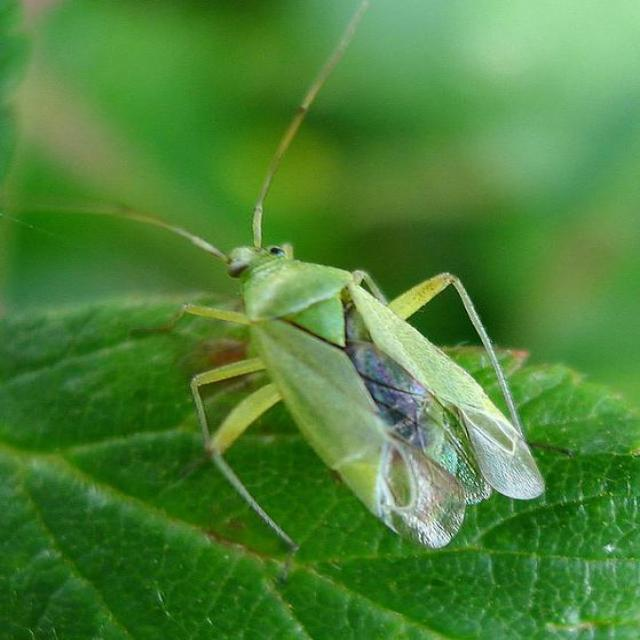Miridae-Adult-: (43, 3, 557, 559)
